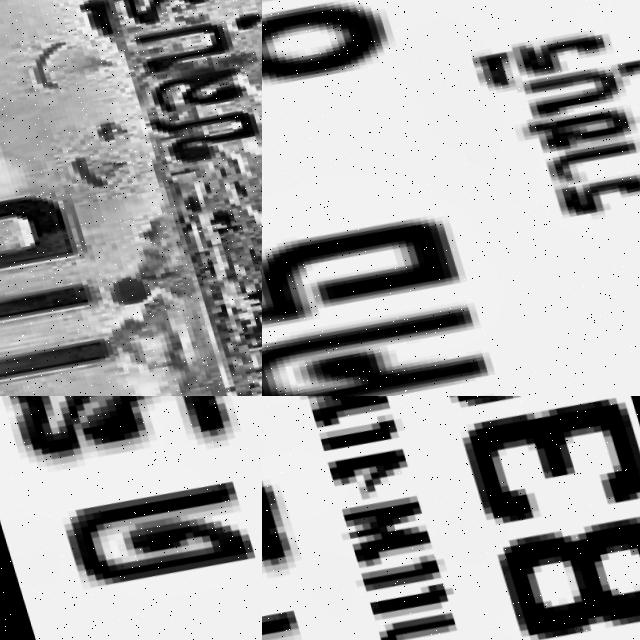license-plate: (262, 0, 640, 396), (0, 0, 262, 396), (262, 396, 640, 640), (0, 396, 262, 640)
